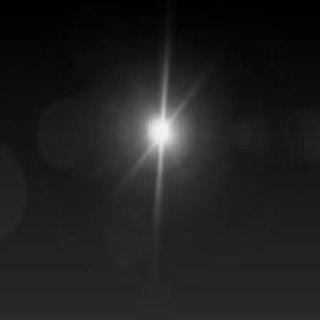other: (125, 94, 183, 164)
